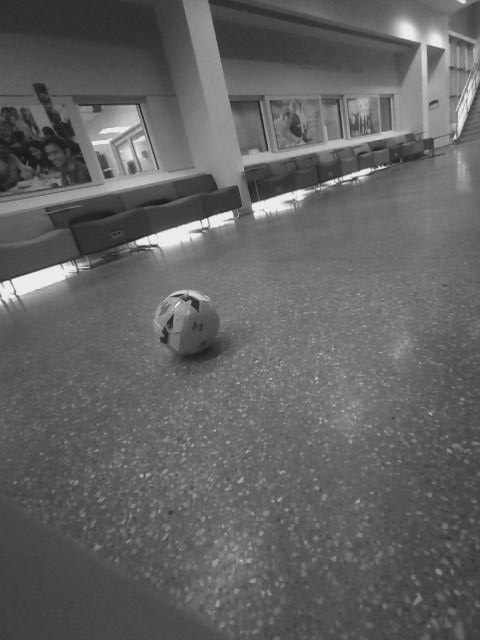ball: (147, 281, 229, 365)
